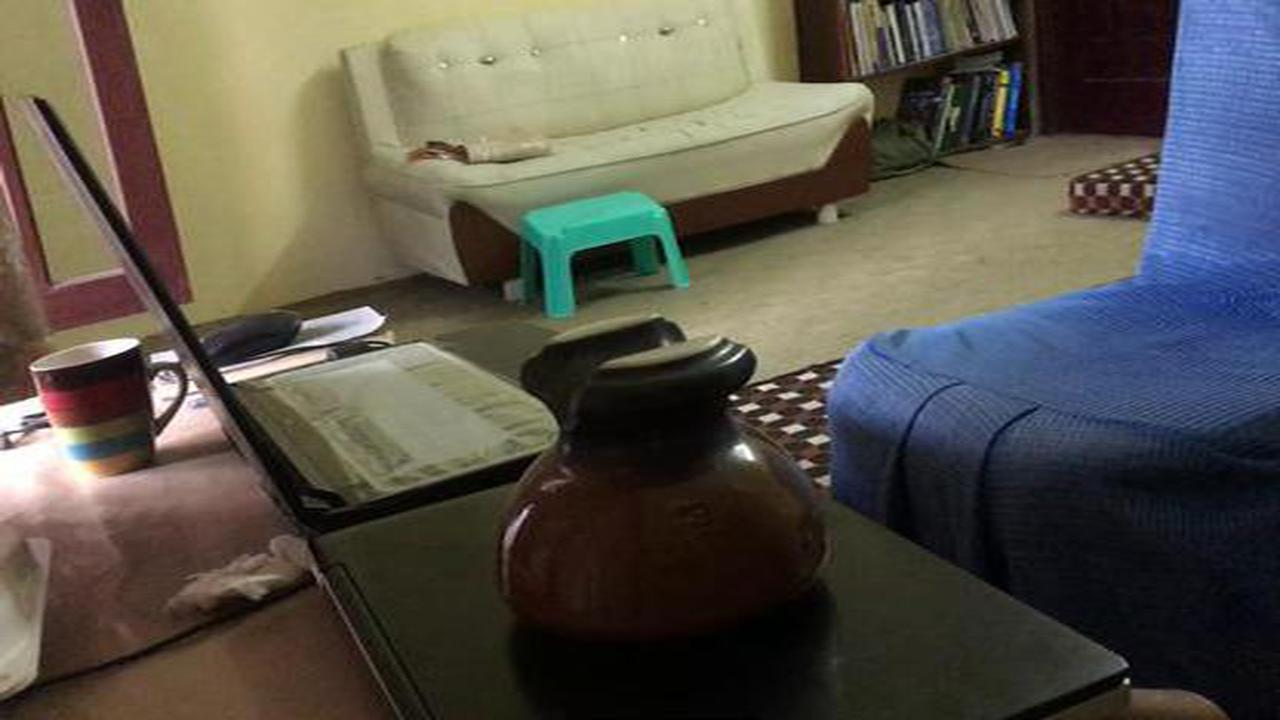insulator_pin: (487, 307, 853, 662)
